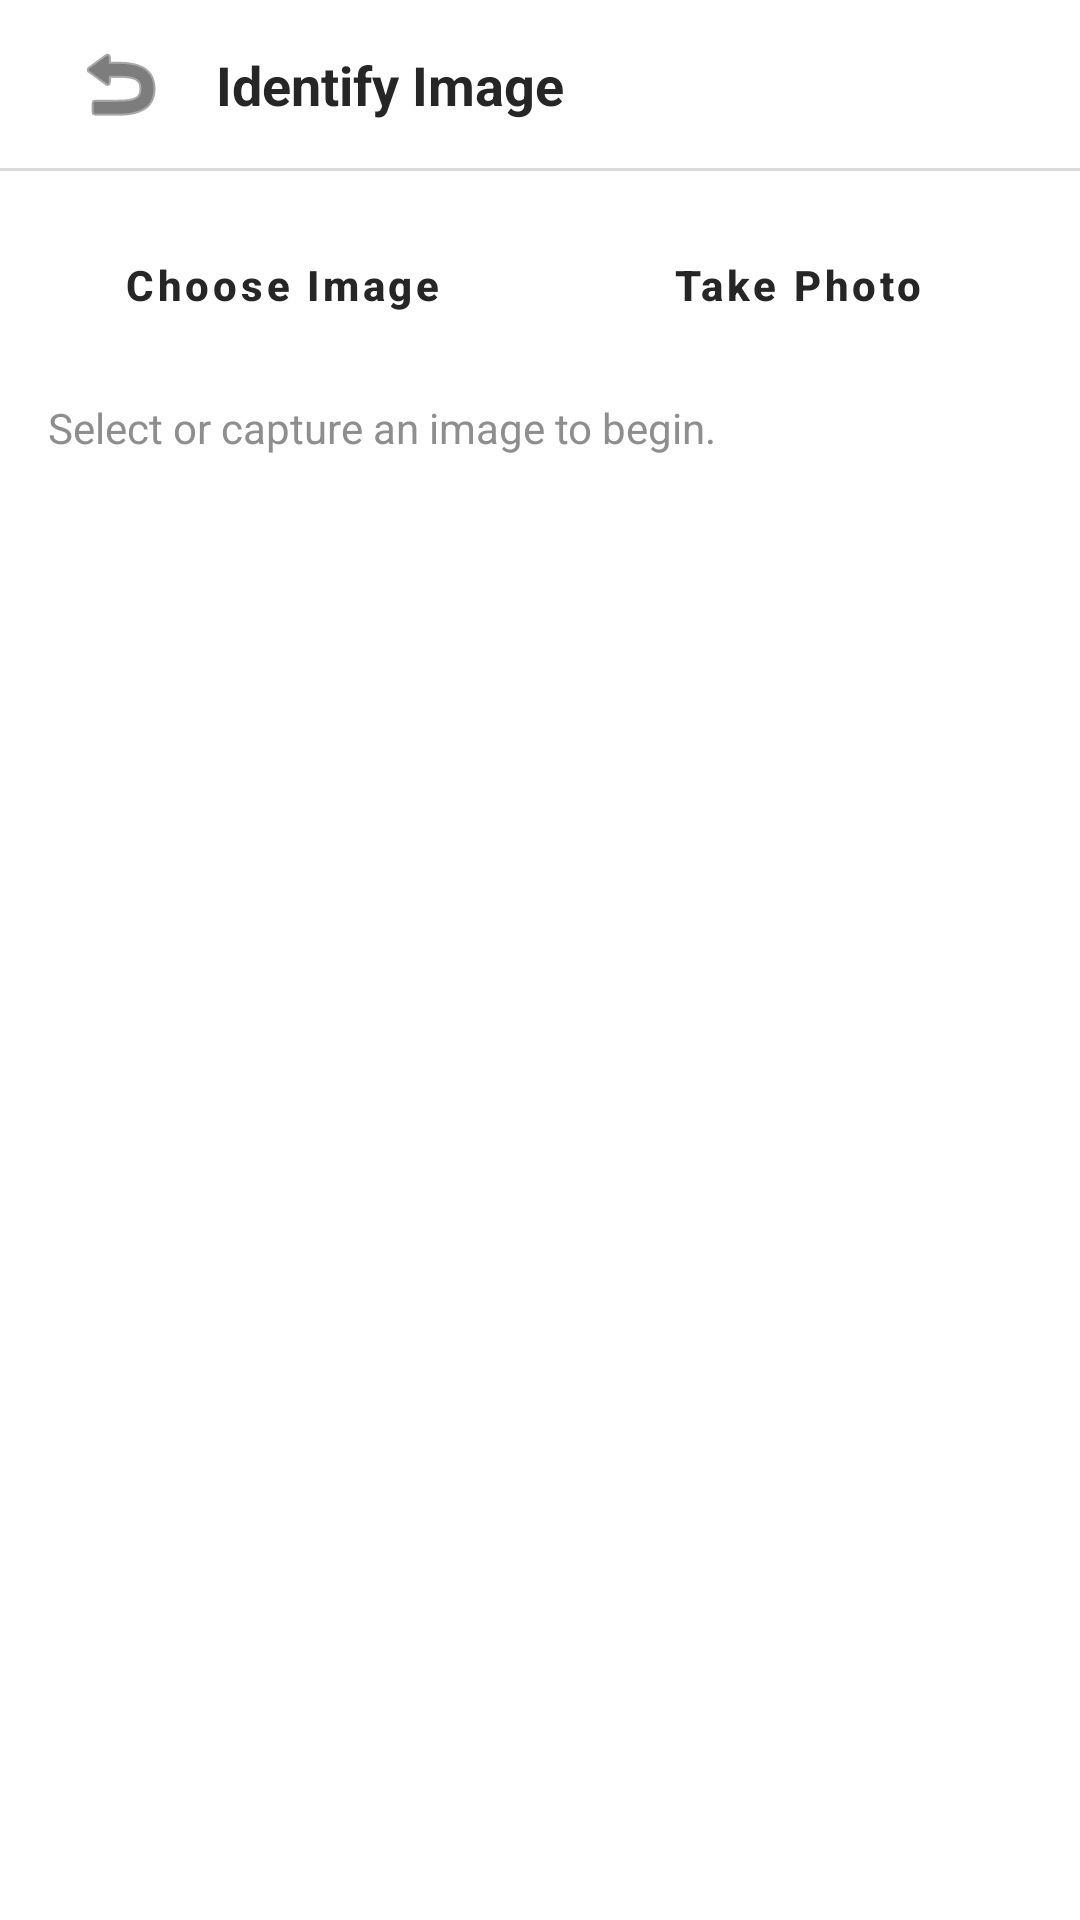

Icons on this 1080px x 1920px Android screen, each with its box as (x1, y1, x2, y2):
Go back: (87, 53, 156, 116)
